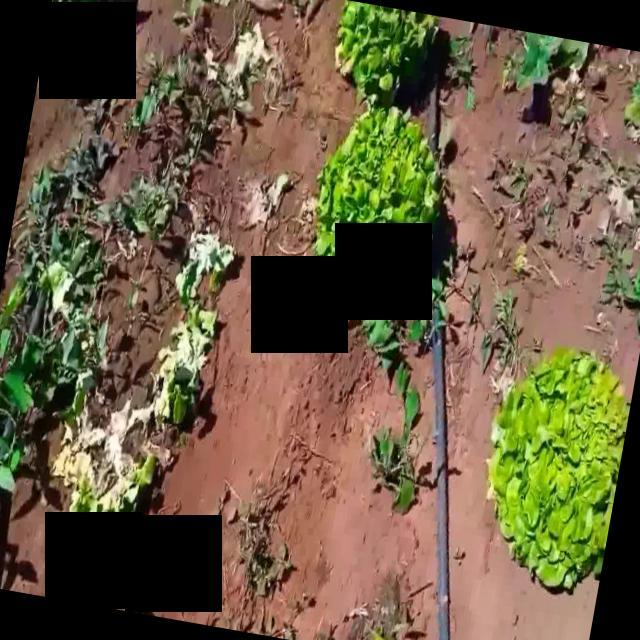Lettuce: (484, 347, 634, 592), (310, 107, 444, 260), (336, 2, 442, 96)
